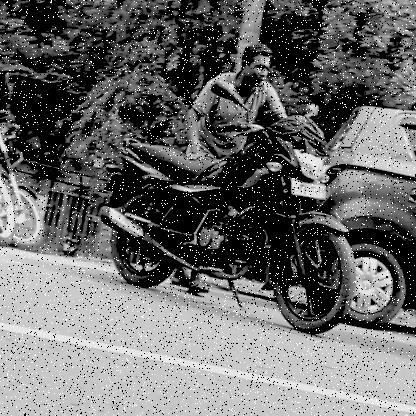motorcycle: (90, 76, 388, 354), (0, 51, 63, 267)
